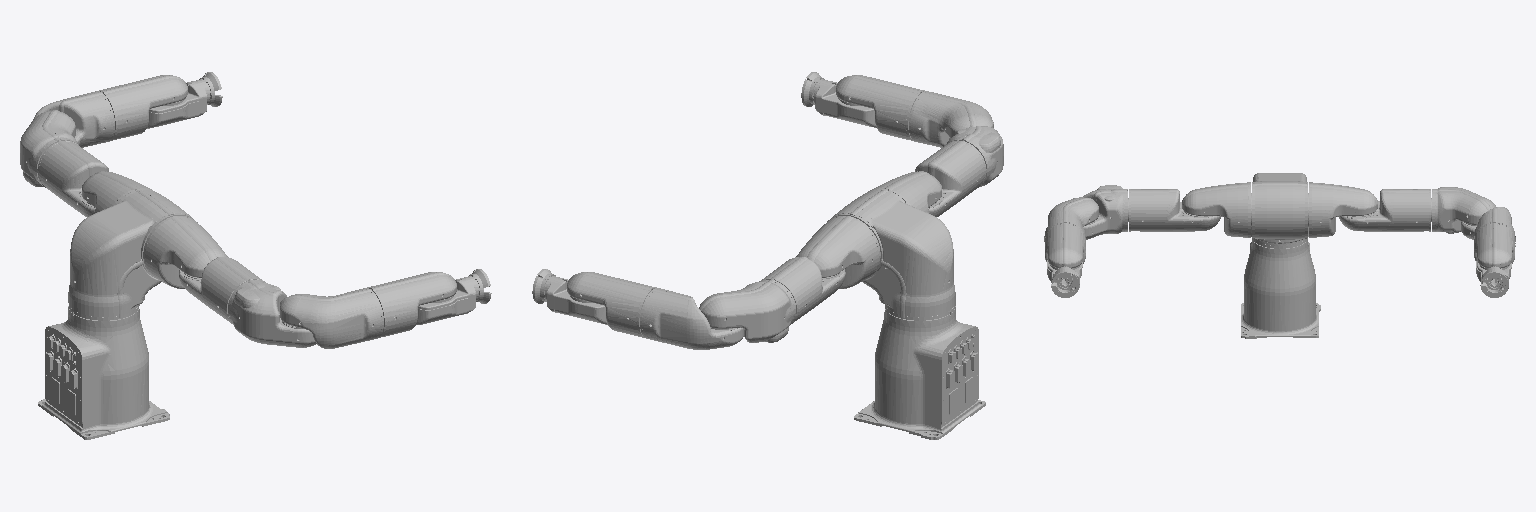
robot.urdf — motoman_bmda3:
<?xml version="1.0" encoding="utf-8"?>
<!-- =================================================================================== -->
<!-- |    This document was autogenerated by xacro from bmda3.xacro                    | -->
<!-- |    EDITING THIS FILE BY HAND IS NOT RECOMMENDED                                 | -->
<!-- =================================================================================== -->
<robot name="motoman_bmda3">
  <!-- link list   -->
  <link name="base_link">
    <origin rpy="0 0 0" xyz="0 0 0"/>
  </link>
  <link name="base">
    <visual>
      <origin rpy="0 0 0" xyz="0 0 0"/>
      <geometry>
        <mesh filename="./meshes/bmda3/visual/base.stl"/>
      </geometry>
      <material name="">
        <color rgba="0.75294 0.75294 0.75294 1"/>
      </material>
    </visual>
    <collision>
      <origin rpy="0 0 0" xyz="0 0 0"/>
      <geometry>
        <mesh filename="./meshes/bmda3/collision/base.stl"/>
      </geometry>
    </collision>
  </link>
  <link name="torso_link_b1">
    <visual>
      <origin rpy="0 0 0" xyz="0 0 0"/>
      <geometry>
        <mesh filename="./meshes/bmda3/visual/torso_link.stl"/>
      </geometry>
      <material name="">
        <color rgba="0.75294 0.75294 0.75294 1"/>
      </material>
    </visual>
    <collision>
      <origin rpy="0 0 0" xyz="0 0 0"/>
      <geometry>
        <mesh filename="./meshes/bmda3/collision/torso_link.stl"/>
      </geometry>
    </collision>
  </link>
  <link name="right_link_l">
    <visual>
      <origin rpy="0 0 0" xyz="0 0 0"/>
      <geometry>
        <mesh filename="./meshes/bmda3/visual/right_link_l.stl"/>
      </geometry>
      <material name="">
        <color rgba="0.75294 0.75294 0.75294 1"/>
      </material>
    </visual>
    <collision>
      <origin rpy="0 0 0" xyz="0 0 0"/>
      <geometry>
        <mesh filename="./meshes/bmda3/collision/right_link_l.stl"/>
      </geometry>
    </collision>
  </link>
  <link name="right_link_e">
    <visual>
      <origin rpy="0 0 0" xyz="0 0 0"/>
      <geometry>
        <mesh filename="./meshes/bmda3/visual/right_link_e.stl"/>
      </geometry>
      <material name="">
        <color rgba="0.75294 0.75294 0.75294 1"/>
      </material>
    </visual>
    <collision>
      <origin rpy="0 0 0" xyz="0 0 0"/>
      <geometry>
        <mesh filename="./meshes/bmda3/collision/right_link_e.stl"/>
      </geometry>
    </collision>
  </link>
  <link name="right_link_u">
    <visual>
      <origin rpy="0 0 0" xyz="0 0 0"/>
      <geometry>
        <mesh filename="./meshes/bmda3/visual/right_link_u.stl"/>
      </geometry>
      <material name="">
        <color rgba="0.752941176470588 0.752941176470588 0.752941176470588 1"/>
      </material>
    </visual>
    <collision>
      <origin rpy="0 0 0" xyz="0 0 0"/>
      <geometry>
        <mesh filename="./meshes/bmda3/collision/right_link_u.stl"/>
      </geometry>
    </collision>
  </link>
  <link name="right_link_r">
    <visual>
      <origin rpy="0 0 0" xyz="0 0 0"/>
      <geometry>
        <mesh filename="./meshes/bmda3/visual/right_link_r.stl"/>
      </geometry>
      <material name="">
        <color rgba="0.752941176470588 0.752941176470588 0.752941176470588 1"/>
      </material>
    </visual>
    <collision>
      <origin rpy="0 0 0" xyz="0 0 0"/>
      <geometry>
        <mesh filename="./meshes/bmda3/collision/right_link_r.stl"/>
      </geometry>
    </collision>
  </link>
  <link name="right_link_b">
    <visual>
      <origin rpy="0 0 0" xyz="0 0 0"/>
      <geometry>
        <mesh filename="./meshes/bmda3/visual/right_link_b.stl"/>
      </geometry>
      <material name="">
        <color rgba="0.752941176470588 0.752941176470588 0.752941176470588 1"/>
      </material>
    </visual>
    <collision>
      <origin rpy="0 0 0" xyz="0 0 0"/>
      <geometry>
        <mesh filename="./meshes/bmda3/collision/right_link_b.stl"/>
      </geometry>
    </collision>
  </link>
  <link name="right_link_t">
    <visual>
      <origin rpy="0 0 0" xyz="0 0 0"/>
      <geometry>
        <mesh filename="./meshes/bmda3/visual/right_link_t.stl"/>
      </geometry>
      <material name="">
        <color rgba="0.752941176470588 0.752941176470588 0.752941176470588 1"/>
      </material>
    </visual>
    <collision>
      <origin rpy="0 0 0" xyz="0 0 0"/>
      <geometry>
        <mesh filename="./meshes/bmda3/collision/right_link_t.stl"/>
      </geometry>
    </collision>
  </link>
  <link name="right_tool0"/>
  <!-- Note that the redundant torso link b2 is introduced to match the phantom joint in the controller -->
  <link name="torso_link_b2">
    <visual>
      <origin rpy="0 0 0" xyz="0 0 0"/>
      <geometry>
        <mesh filename="./meshes/bmda3/visual/torso_link.stl"/>
      </geometry>
      <material name="">
        <color rgba="0.75294 0.75294 0.75294 1"/>
      </material>
    </visual>
    <collision>
      <origin rpy="0 0 0" xyz="0 0 0"/>
      <geometry>
        <mesh filename="./meshes/bmda3/collision/torso_link.stl"/>
      </geometry>
    </collision>
  </link>
  <link name="left_link_l">
    <visual>
      <origin rpy="0 0 0" xyz="0 0 0"/>
      <geometry>
        <mesh filename="./meshes/bmda3/visual/left_link_l.stl"/>
      </geometry>
      <material name="">
        <color rgba="0.752941176470588 0.752941176470588 0.752941176470588 1"/>
      </material>
    </visual>
    <collision>
      <origin rpy="0 0 0" xyz="0 0 0"/>
      <geometry>
        <mesh filename="./meshes/bmda3/collision/left_link_l.stl"/>
      </geometry>
    </collision>
  </link>
  <link name="left_link_e">
    <visual>
      <origin rpy="0 0 0" xyz="0 0 0"/>
      <geometry>
        <mesh filename="./meshes/bmda3/visual/left_link_e.stl"/>
      </geometry>
      <material name="">
        <color rgba="0.752941176470588 0.752941176470588 0.752941176470588 1"/>
      </material>
    </visual>
    <collision>
      <origin rpy="0 0 0" xyz="0 0 0"/>
      <geometry>
        <mesh filename="./meshes/bmda3/collision/left_link_e.stl"/>
      </geometry>
    </collision>
  </link>
  <link name="left_link_u">
    <visual>
      <origin rpy="0 0 0" xyz="0 0 0"/>
      <geometry>
        <mesh filename="./meshes/bmda3/visual/left_link_u.stl"/>
      </geometry>
      <material name="">
        <color rgba="0.752941176470588 0.752941176470588 0.752941176470588 1"/>
      </material>
    </visual>
    <collision>
      <origin rpy="0 0 0" xyz="0 0 0"/>
      <geometry>
        <mesh filename="./meshes/bmda3/collision/left_link_u.stl"/>
      </geometry>
    </collision>
  </link>
  <link name="left_link_r">
    <visual>
      <origin rpy="0 0 0" xyz="0 0 0"/>
      <geometry>
        <mesh filename="./meshes/bmda3/visual/left_link_r.stl"/>
      </geometry>
      <material name="">
        <color rgba="0.752941176470588 0.752941176470588 0.752941176470588 1"/>
      </material>
    </visual>
    <collision>
      <origin rpy="0 0 0" xyz="0 0 0"/>
      <geometry>
        <mesh filename="./meshes/bmda3/collision/left_link_r.stl"/>
      </geometry>
    </collision>
  </link>
  <link name="left_link_b">
    <visual>
      <origin rpy="0 0 0" xyz="0 0 0"/>
      <geometry>
        <mesh filename="./meshes/bmda3/visual/left_link_b.stl"/>
      </geometry>
      <material name="">
        <color rgba="0.752941176470588 0.752941176470588 0.752941176470588 1"/>
      </material>
    </visual>
    <collision>
      <origin rpy="0 0 0" xyz="0 0 0"/>
      <geometry>
        <mesh filename="./meshes/bmda3/collision/left_link_b.stl"/>
      </geometry>
    </collision>
  </link>
  <link name="left_link_t">
    <visual>
      <origin rpy="0 0 0" xyz="0 0 0"/>
      <geometry>
        <mesh filename="./meshes/bmda3/visual/left_link_t.stl"/>
      </geometry>
      <material name="">
        <color rgba="0.752941176470588 0.752941176470588 0.752941176470588 1"/>
      </material>
    </visual>
    <collision>
      <origin rpy="0 0 0" xyz="0 0 0"/>
      <geometry>
        <mesh filename="./meshes/bmda3/collision/left_link_t.stl"/>
      </geometry>
    </collision>
  </link>
  <link name="left_tool0"/>
  <!--end of link list -->
  <!-- joint list -->
  <joint name="base_link-base" type="fixed">
    <origin rpy="0 0 0" xyz="0 0 0"/>
    <parent link="base_link"/>
    <child link="base"/>
  </joint>
  <joint name="torso_joint_b1" type="revolute">
    <parent link="base"/>
    <child link="torso_link_b1"/>
    <origin rpy="0 0 0" xyz="0 0 0.3305"/>
    <axis xyz="0 0 1"/>
    <limit effort="0" lower="-3.1415" upper="3.1415" velocity="2.27"/>
  </joint>
  <joint name="right_joint_s" type="revolute">
    <parent link="torso_link_b1"/>
    <child link="right_link_l"/>
    <origin rpy="0 0 0" xyz="0.15002 -0.099 0.12951"/>
    <axis xyz="0 1 0"/>
    <limit effort="0" lower="-1.570" upper="3.1415" velocity="2.97"/>
  </joint>
  <joint name="right_joint_l" type="revolute">
    <parent link="right_link_l"/>
    <child link="right_link_e"/>
    <origin rpy="0 0 0" xyz="0 -0.151 0"/>
    <axis xyz="0 0 1"/>
    <limit effort="0" lower="-1.745" upper="1.745" velocity="2.62"/>
  </joint>
  <joint name="right_joint_e" type="revolute">
    <parent link="right_link_e"/>
    <child link="right_link_u"/>
    <origin rpy="0 0 0" xyz="0 -0.23549999999989 0"/>
    <axis xyz="0 1 0"/>
    <limit effort="0" lower="-2.966" upper="2.966" velocity="2.97"/>
  </joint>
  <joint name="right_joint_u" type="revolute">
    <parent link="right_link_u"/>
    <child link="right_link_r"/>
    <origin rpy="0 0 0" xyz="0.065002 -0.1445 0"/>
    <axis xyz="0 0 -1"/>
    <limit effort="0" lower="-1.396" upper="0.7504" velocity="2.97"/>
  </joint>
  <joint name="right_joint_r" type="revolute">
    <parent link="right_link_r"/>
    <child link="right_link_b"/>
    <origin rpy="0 0 0" xyz="0.35997 -0.05 0"/>
    <axis xyz="1 0 0"/>
    <limit effort="0" lower="-3.1415" upper="3.1415" velocity="3.49"/>
  </joint>
  <joint name="right_joint_b" type="revolute">
    <parent link="right_link_b"/>
    <child link="right_link_t"/>
    <origin rpy="0 0 0" xyz="0 0 0"/>
    <axis xyz="0 0 -1"/>
    <limit effort="0" lower="-1.9198" upper="1.9198" velocity="3.49"/>
  </joint>
  <joint name="right_joint_t" type="revolute">
    <parent link="right_link_t"/>
    <child link="right_tool0"/>
    <origin rpy="0 0 0" xyz="0.138 0 0"/>
    <axis xyz="1 0 0"/>
    <limit effort="0" lower="-4.712" upper="4.712" velocity="6.11"/>
  </joint>
  <!-- Note that the redundant torso joint b2 is introduced to match the phantom joint in the controller -->
  <joint name="torso_joint_b2" type="revolute">
    <parent link="base"/>
    <child link="torso_link_b2"/>
    <origin rpy="0 0 0" xyz="0 0 0.3305"/>
    <axis xyz="0 0 1"/>
    <limit effort="0" lower="-3.1415" upper="3.1415" velocity="2.27"/>
  </joint>
  <joint name="left_joint_s" type="revolute">
    <parent link="torso_link_b1"/>
    <child link="left_link_l"/>
    <origin rpy="0 0 0" xyz="0.15003 0.099 0.1295"/>
    <axis xyz="0 1 0"/>
    <limit effort="0" lower="-1.570" upper="3.1415" velocity="2.97"/>
  </joint>
  <joint name="left_joint_l" type="revolute">
    <parent link="left_link_l"/>
    <child link="left_link_e"/>
    <origin rpy="0 0 0" xyz="0 0.151 0"/>
    <axis xyz="0 0 -1"/>
    <limit effort="0" lower="-1.745" upper="1.745" velocity="2.62"/>
  </joint>
  <joint name="left_joint_e" type="revolute">
    <parent link="left_link_e"/>
    <child link="left_link_u"/>
    <origin rpy="0 0 0" xyz="0 0.23549999999989 0"/>
    <axis xyz="0 1 0"/>
    <limit effort="0" lower="-2.966" upper="2.966" velocity="2.97"/>
  </joint>
  <joint name="left_joint_u" type="revolute">
    <parent link="left_link_u"/>
    <child link="left_link_r"/>
    <origin rpy="0 0 0" xyz="0.065 0.1445 0"/>
    <axis xyz="0 0 1"/>
    <limit effort="0" lower="-1.396" upper="0.7504" velocity="2.97"/>
  </joint>
  <joint name="left_joint_r" type="revolute">
    <parent link="left_link_r"/>
    <child link="left_link_b"/>
    <origin rpy="0 0 0" xyz="0.35997 0.05 0"/>
    <axis xyz="-1 0 0"/>
    <limit effort="0" lower="-3.1415" upper="3.1415" velocity="3.49"/>
  </joint>
  <joint name="left_joint_b" type="revolute">
    <parent link="left_link_b"/>
    <child link="left_link_t"/>
    <origin rpy="0 0 0" xyz="0 0 0"/>
    <axis xyz="0 0 1"/>
    <limit effort="0" lower="-1.9198" upper="1.9198" velocity="3.49"/>
  </joint>
  <joint name="left_joint_t" type="revolute">
    <parent link="left_link_t"/>
    <child link="left_tool0"/>
    <origin rpy="0 0 0" xyz="0.138 0 0"/>
    <axis xyz="-1 0 0"/>
    <limit effort="0" lower="-4.712" upper="4.712" velocity="6.11"/>
  </joint>
  <!-- end of joint list -->
</robot>

--- Render facts (derived) ---
Views: 3 orthographic renders of the robot side by side, from view 1: azimuth 30°, elevation 25°; view 2: azimuth 150°, elevation 25°; view 3: azimuth 270°, elevation 25°.
Model motoman_bmda3 with 18 links and 17 joints (16 revolute, 1 fixed), rooted at base_link, posed all joints at 0.
Links seen in each view (by area): view 1: base, torso_link_b1, right_link_r, right_link_l, right_link_u, right_link_b, left_link_b, left_link_e, left_link_r, right_link_e, left_link_u, left_link_t (+2 smaller); view 2: base, torso_link_b1, left_link_u, left_link_l, left_link_r, right_link_b, left_link_b, right_link_r, right_link_e, left_link_e, right_link_t, left_link_t (+2 smaller); view 3: base, torso_link_b1, right_link_e, left_link_e, left_link_l, right_link_l, left_link_u, right_link_u, left_link_b, right_link_b, right_link_r, right_link_t (+2 smaller).
Boxes of the visible links, bbox=[...] form: base: bbox=[38, 306, 169, 439]; torso_link_b1: bbox=[68, 189, 197, 320]; right_link_r: bbox=[280, 288, 383, 348]; right_link_l: bbox=[143, 216, 227, 288]; right_link_u: bbox=[228, 280, 316, 347]; right_link_b: bbox=[367, 272, 456, 337]; left_link_b: bbox=[99, 75, 187, 141]; left_link_e: bbox=[37, 140, 108, 216]; left_link_r: bbox=[33, 91, 114, 147]; right_link_e: bbox=[179, 257, 264, 323]; left_link_u: bbox=[20, 110, 76, 186]; left_link_t: bbox=[147, 72, 222, 128]; base: bbox=[854, 306, 985, 439]; torso_link_b1: bbox=[827, 189, 955, 320]; left_link_u: bbox=[699, 280, 795, 342]; left_link_l: bbox=[796, 216, 880, 288]; left_link_r: bbox=[640, 288, 743, 349]; right_link_b: bbox=[836, 75, 924, 141]; left_link_b: bbox=[567, 272, 656, 337]; right_link_r: bbox=[909, 91, 993, 147]; right_link_e: bbox=[915, 140, 986, 216]; left_link_e: bbox=[759, 257, 845, 323]; right_link_t: bbox=[801, 72, 876, 127]; left_link_t: bbox=[532, 269, 607, 324]; base: bbox=[1241, 240, 1320, 338]; torso_link_b1: bbox=[1251, 173, 1308, 248]; right_link_e: bbox=[1128, 189, 1221, 231]; left_link_e: bbox=[1338, 189, 1431, 231]; left_link_l: bbox=[1309, 182, 1377, 237]; right_link_l: bbox=[1182, 182, 1250, 237]; left_link_u: bbox=[1432, 187, 1495, 233]; right_link_u: bbox=[1083, 185, 1127, 239]; left_link_b: bbox=[1474, 223, 1515, 269]; right_link_b: bbox=[1044, 223, 1085, 269]; right_link_r: bbox=[1044, 197, 1098, 240]; right_link_t: bbox=[1047, 260, 1082, 297].
Size in the robot's own frame: 0.8432 by 1.49 by 0.5545 metres.
15 mesh visuals loaded from 14 distinct referenced files (14 binary STL).
